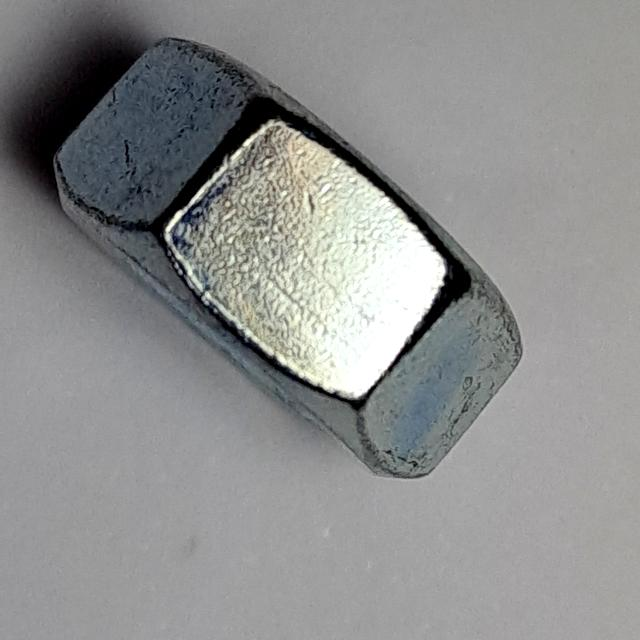Side_Excellent: (44, 23, 558, 506)
